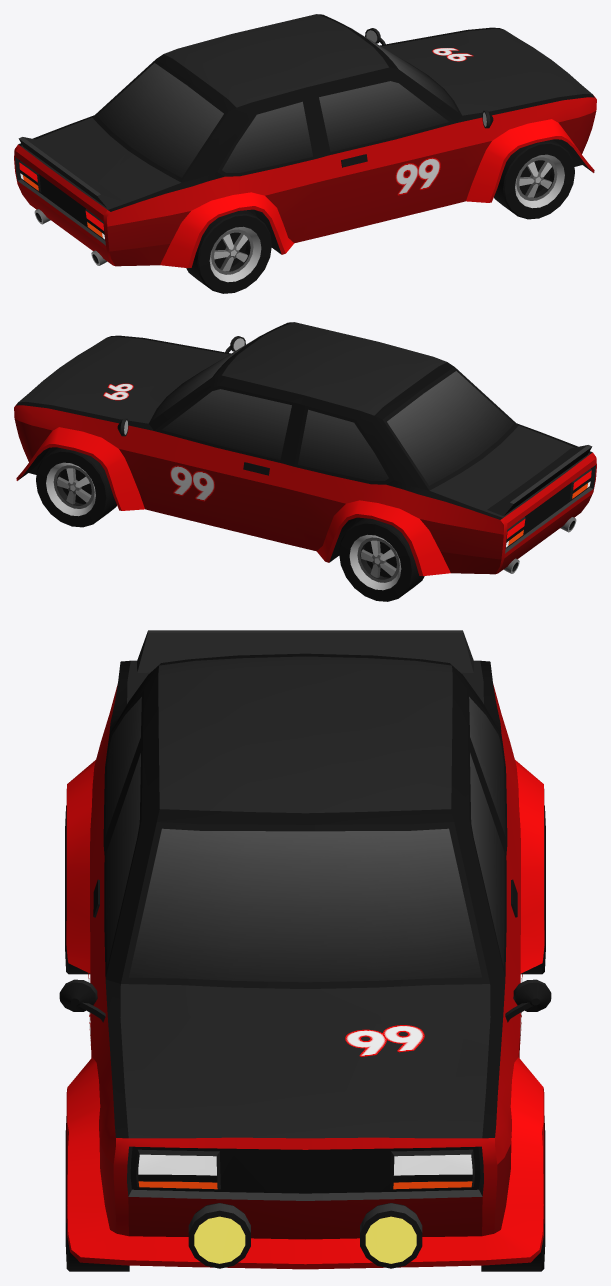
File: RaceCar_108.glb
3 renders of one model, top to bottom at view 1: azimuth 30°, elevation 25°; view 2: azimuth 150°, elevation 25°; view 3: azimuth 270°, elevation 25°, orthographic. The views are drawn at different scales.
Parts seen in each view (by area): view 1: RaceCar_108, wheel_3_RaceCar_108_Wheel_2R, wheel_1_RaceCar_108_Wheel_1R; view 2: RaceCar_108, wheel_2_RaceCar_108_Wheel_2L, wheel_0_RaceCar_108_Wheel_1L; view 3: RaceCar_108, wheel_0_RaceCar_108_Wheel_1L, wheel_1_RaceCar_108_Wheel_1R.
Boxes of the visible parts, left/top/right/bottom form: RaceCar_108: left=14, top=14, right=596, bottom=268; wheel_3_RaceCar_108_Wheel_2R: left=186, top=210, right=271, bottom=293; wheel_1_RaceCar_108_Wheel_1R: left=494, top=139, right=574, bottom=219; RaceCar_108: left=14, top=322, right=596, bottom=576; wheel_2_RaceCar_108_Wheel_2L: left=339, top=518, right=424, bottom=601; wheel_0_RaceCar_108_Wheel_1L: left=36, top=447, right=116, bottom=527; RaceCar_108: left=59, top=630, right=551, bottom=1269; wheel_0_RaceCar_108_Wheel_1L: left=481, top=1116, right=545, bottom=1271; wheel_1_RaceCar_108_Wheel_1R: left=65, top=1116, right=129, bottom=1271.
Size of the model in its own units: 3.97 by 1.29 by 1.7.
Materials: 3 (3 with a texture image).
